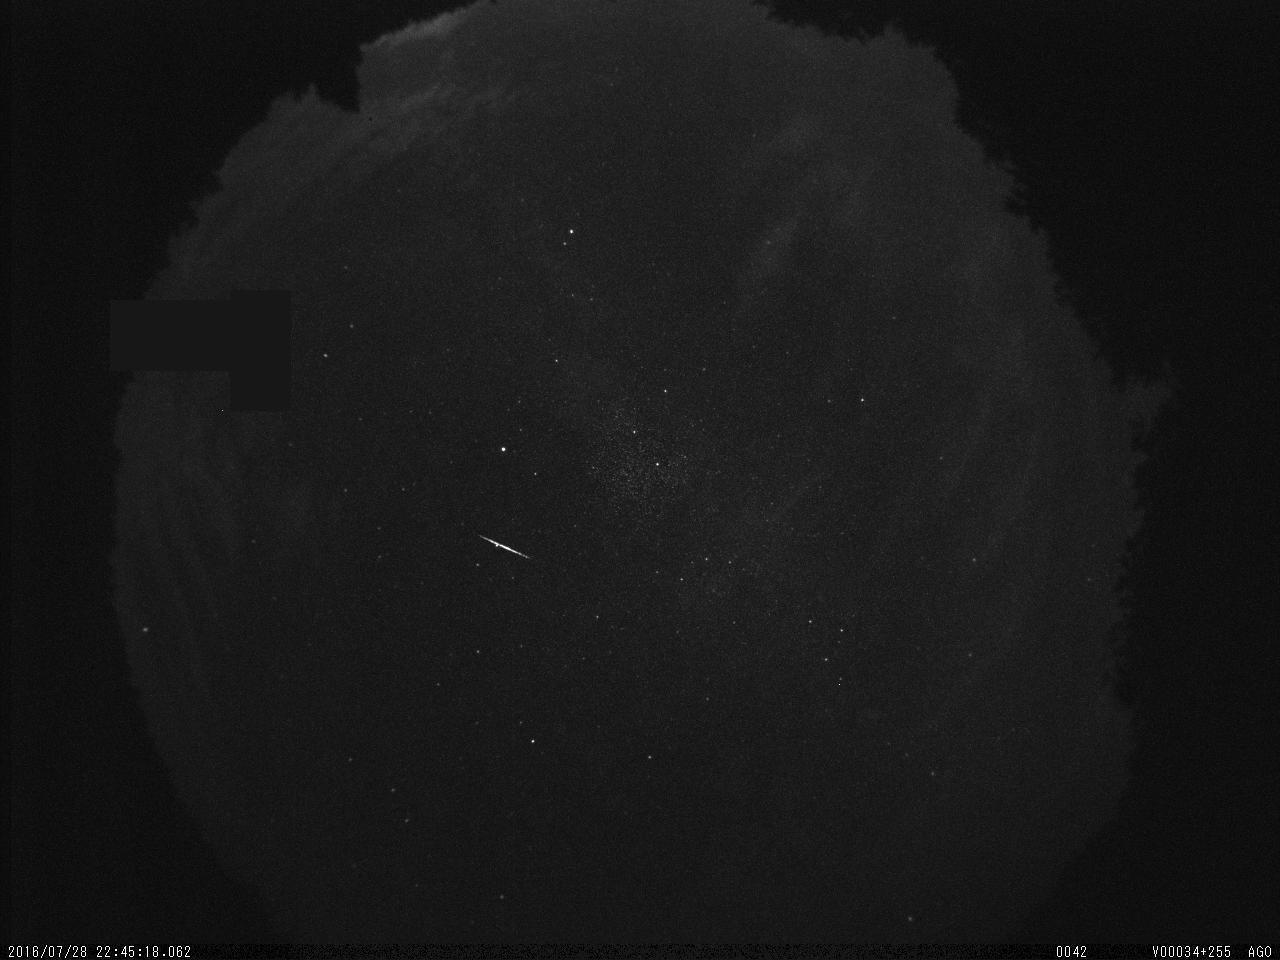meteor: (465, 524, 549, 575)
